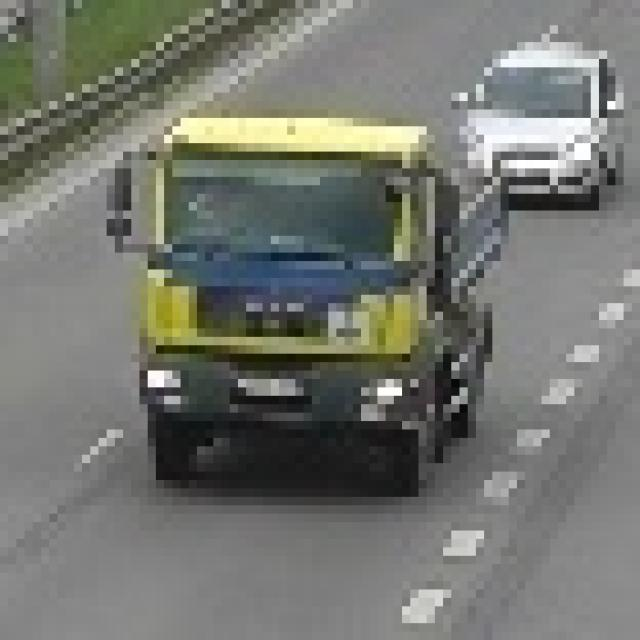Truck: (98, 84, 509, 480)
